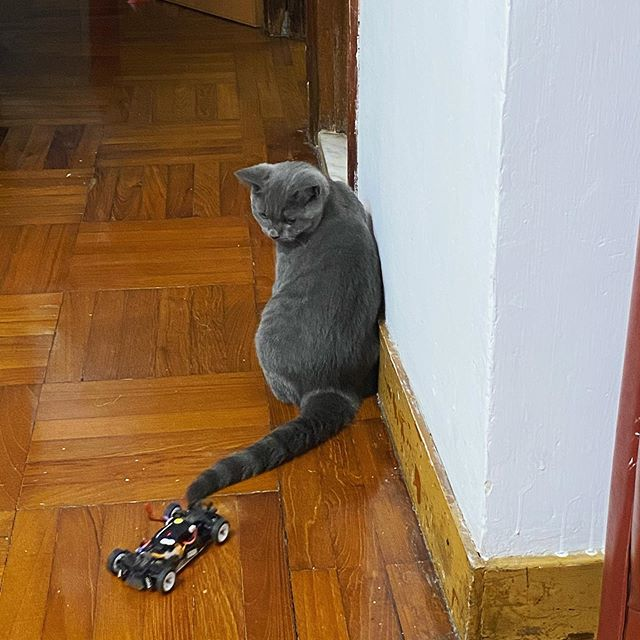cat: (234, 158, 335, 246)
